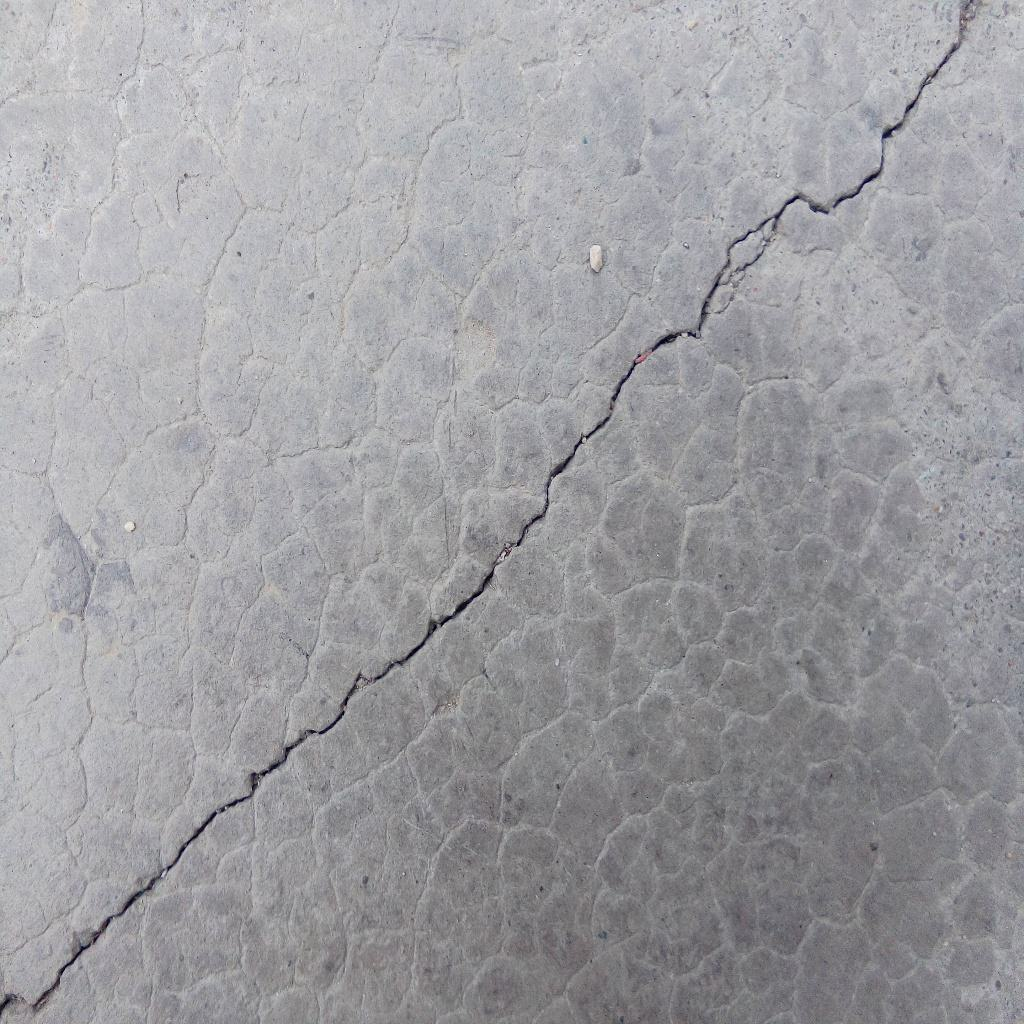Crack: (1, 1, 974, 1024)
